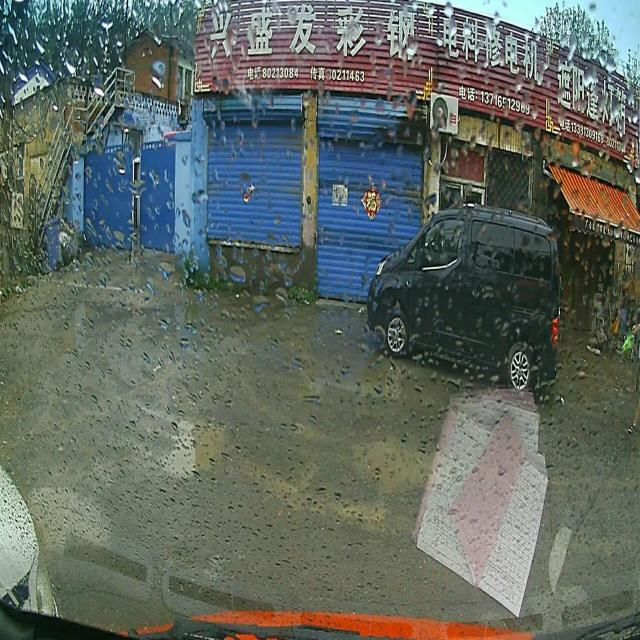car: (368, 204, 560, 390), (1, 460, 67, 616)
